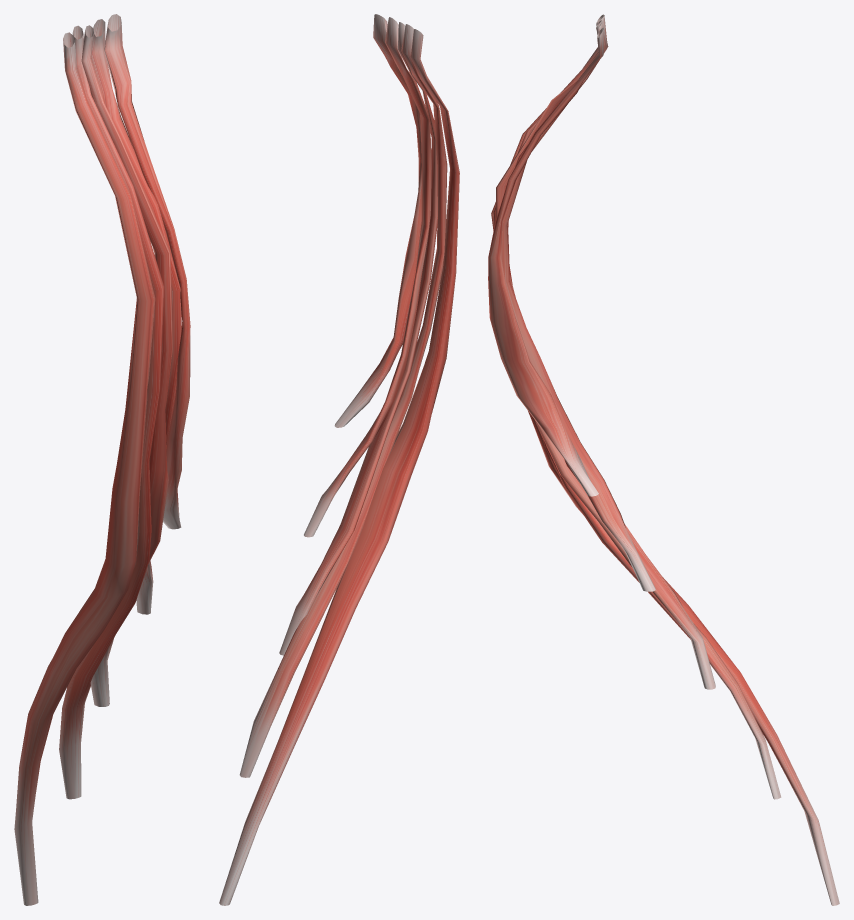
File: Semispinalis_Capitis_Muscle_Left.obj
3 views of the same model, side by side, from view 1: azimuth 30°, elevation 25°; view 2: azimuth 150°, elevation 25°; view 3: azimuth 270°, elevation 25° (orthographic). The views are drawn at different scales.
Parts seen in each view (by area): view 1: Semispinalis_Capitis_Muscle_Left_01:Semispinalis_Capitis_Muscle_, Semispinalis_Capitis_Muscle_Left_02:Semispinalis_Capitis_Muscle_, Semispinalis_Capitis_Muscle_Left_03:Semispinalis_Capitis_Muscle_, Semispinalis_Capitis_Muscle_Left_05:Semispinalis_Capitis_Muscle_, Semispinalis_Capitis_Muscle_Left_04:Semispinalis_Capitis_Muscle_; view 2: Semispinalis_Capitis_Muscle_Left_01:Semispinalis_Capitis_Muscle_, Semispinalis_Capitis_Muscle_Left_02:Semispinalis_Capitis_Muscle_, Semispinalis_Capitis_Muscle_Left_03:Semispinalis_Capitis_Muscle_, Semispinalis_Capitis_Muscle_Left_04:Semispinalis_Capitis_Muscle_, Semispinalis_Capitis_Muscle_Left_05:Semispinalis_Capitis_Muscle_; view 3: Semispinalis_Capitis_Muscle_Left_05:Semispinalis_Capitis_Muscle_, Semispinalis_Capitis_Muscle_Left_04:Semispinalis_Capitis_Muscle_, Semispinalis_Capitis_Muscle_Left_03:Semispinalis_Capitis_Muscle_, Semispinalis_Capitis_Muscle_Left_01:Semispinalis_Capitis_Muscle_, Semispinalis_Capitis_Muscle_Left_02:Semispinalis_Capitis_Muscle_.
Part boxes in pixels (left/top/right/bottom): Semispinalis_Capitis_Muscle_Left_01:Semispinalis_Capitis_Muscle_: left=14, top=32, right=155, bottom=905; Semispinalis_Capitis_Muscle_Left_02:Semispinalis_Capitis_Muscle_: left=59, top=25, right=164, bottom=799; Semispinalis_Capitis_Muscle_Left_03:Semispinalis_Capitis_Muscle_: left=81, top=25, right=173, bottom=706; Semispinalis_Capitis_Muscle_Left_05:Semispinalis_Capitis_Muscle_: left=104, top=14, right=190, bottom=529; Semispinalis_Capitis_Muscle_Left_04:Semispinalis_Capitis_Muscle_: left=91, top=19, right=181, bottom=614; Semispinalis_Capitis_Muscle_Left_01:Semispinalis_Capitis_Muscle_: left=219, top=29, right=459, bottom=905; Semispinalis_Capitis_Muscle_Left_02:Semispinalis_Capitis_Muscle_: left=239, top=24, right=447, bottom=777; Semispinalis_Capitis_Muscle_Left_03:Semispinalis_Capitis_Muscle_: left=279, top=22, right=437, bottom=655; Semispinalis_Capitis_Muscle_Left_04:Semispinalis_Capitis_Muscle_: left=304, top=17, right=431, bottom=537; Semispinalis_Capitis_Muscle_Left_05:Semispinalis_Capitis_Muscle_: left=334, top=14, right=421, bottom=427; Semispinalis_Capitis_Muscle_Left_05:Semispinalis_Capitis_Muscle_: left=488, top=27, right=603, bottom=496; Semispinalis_Capitis_Muscle_Left_04:Semispinalis_Capitis_Muscle_: left=501, top=22, right=655, bottom=591; Semispinalis_Capitis_Muscle_Left_03:Semispinalis_Capitis_Muscle_: left=496, top=20, right=715, bottom=689; Semispinalis_Capitis_Muscle_Left_01:Semispinalis_Capitis_Muscle_: left=491, top=14, right=839, bottom=905; Semispinalis_Capitis_Muscle_Left_02:Semispinalis_Capitis_Muscle_: left=493, top=15, right=781, bottom=799.
Bounding box in the file's own units: 0.282 × 2.24 × 0.8369.
